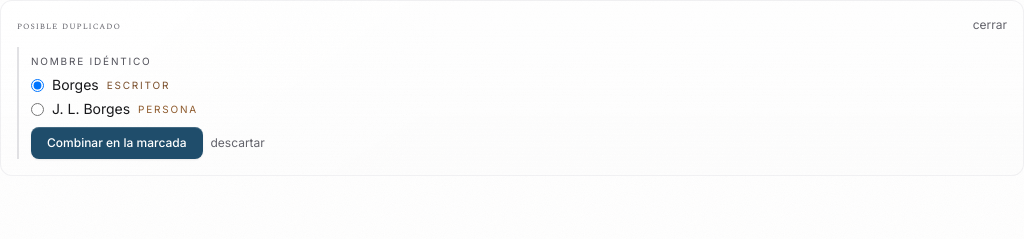
Test: <DuplicatesPanel /> › muestra el error de merge y mantiene el grupo para reintentar
Click the button "Combinar en la marcada": (117, 143) [31,127,202,159]
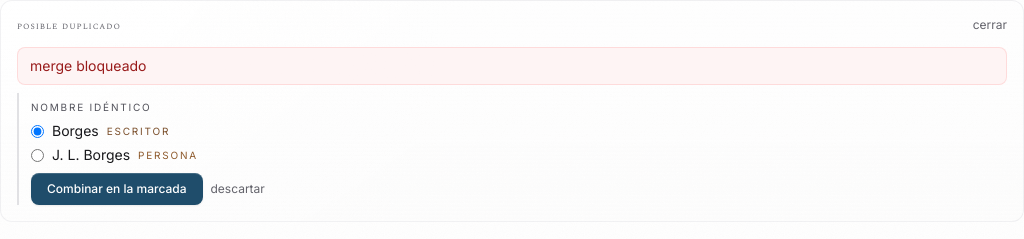
Expected: the text "nombre idéntico" is shown, [31,101,152,113]
Expected: the text "merge bloqueado" is shown, [17,47,1007,85]
